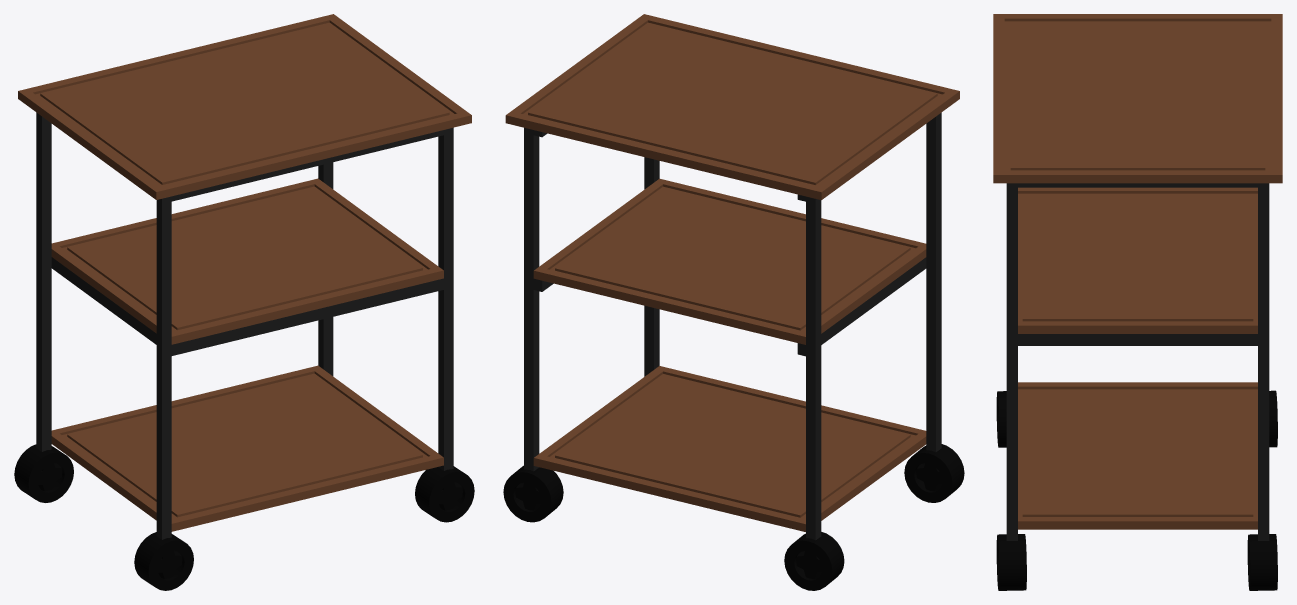
Rendered from Trolley_09.glb.
3 renders of one model, left to right at view 1: azimuth 30°, elevation 25°; view 2: azimuth 150°, elevation 25°; view 3: azimuth 270°, elevation 25°, orthographic. The views are drawn at different scales.
Parts seen in each view (by area): view 1: Mesh_Trolley_09; view 2: Mesh_Trolley_09; view 3: Mesh_Trolley_09.
Boxes of the visible parts, x1,y1,x2,y2 form: Mesh_Trolley_09: (14, 14, 474, 590); Mesh_Trolley_09: (503, 14, 964, 590); Mesh_Trolley_09: (993, 14, 1282, 590).
Bounding box in the file's own units: 0.6037 × 0.7093 × 0.44.
Materials: 1 (1 with a texture image).
